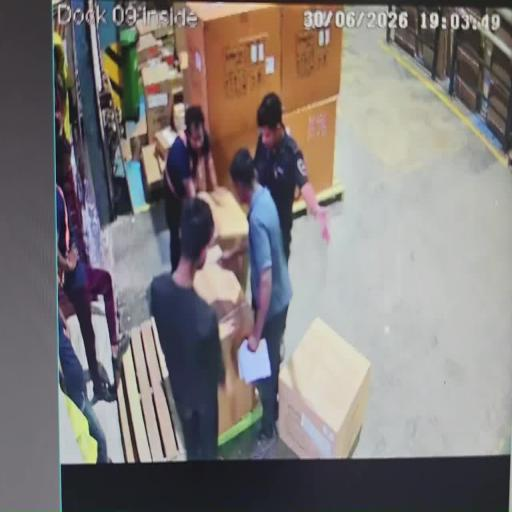carton: (200, 13, 282, 190), (276, 316, 372, 460), (194, 260, 257, 440), (280, 6, 344, 113), (206, 184, 250, 296), (289, 102, 339, 199), (180, 3, 206, 121), (141, 139, 164, 191), (153, 127, 178, 173), (138, 60, 173, 90), (143, 88, 169, 110), (146, 106, 162, 139)
forklift: (52, 0, 148, 216)
pallet: (114, 318, 186, 465)
person: (221, 150, 293, 460), (144, 196, 228, 461), (56, 179, 118, 401), (253, 90, 331, 260), (164, 106, 218, 272), (58, 305, 110, 466)
